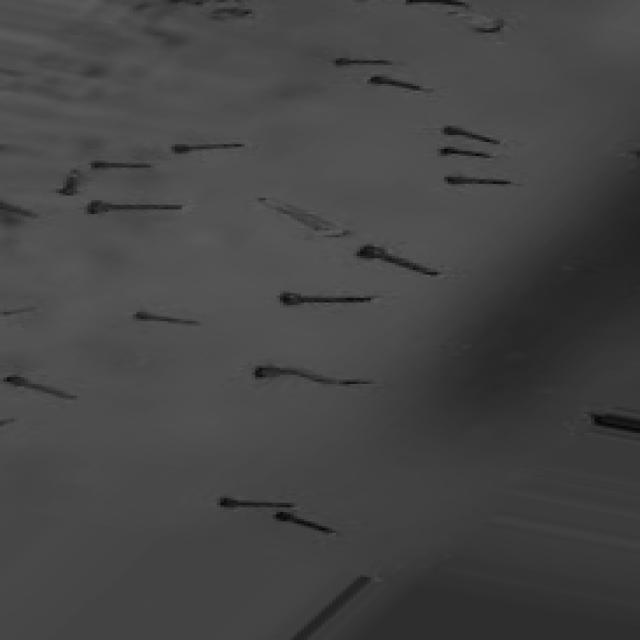larvas: (356, 244, 438, 277), (256, 368, 364, 386), (84, 198, 182, 215), (10, 376, 72, 400), (282, 292, 379, 306), (131, 308, 197, 328), (273, 512, 331, 532), (222, 496, 293, 511), (446, 120, 492, 143), (172, 140, 245, 154), (374, 72, 422, 93), (465, 11, 506, 35), (0, 193, 38, 218), (441, 176, 511, 187), (91, 159, 155, 170), (56, 168, 80, 197), (441, 146, 494, 158), (335, 56, 390, 66), (402, 0, 458, 7)
